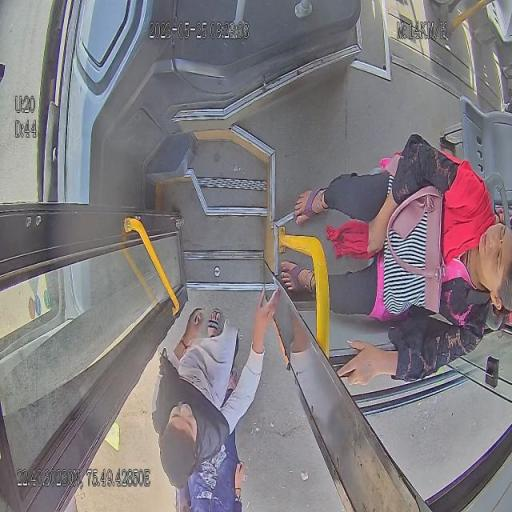persona: (279, 133, 511, 387), (151, 286, 282, 488), (182, 423, 252, 512)
